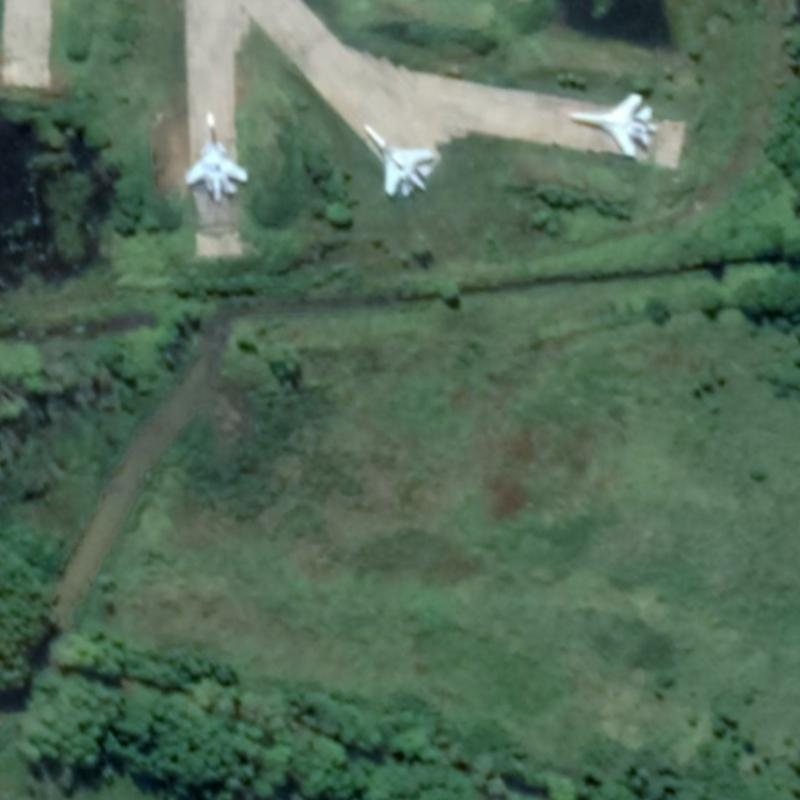A1: (357, 118, 438, 200), (567, 89, 660, 160)
A19: (182, 107, 249, 202)
